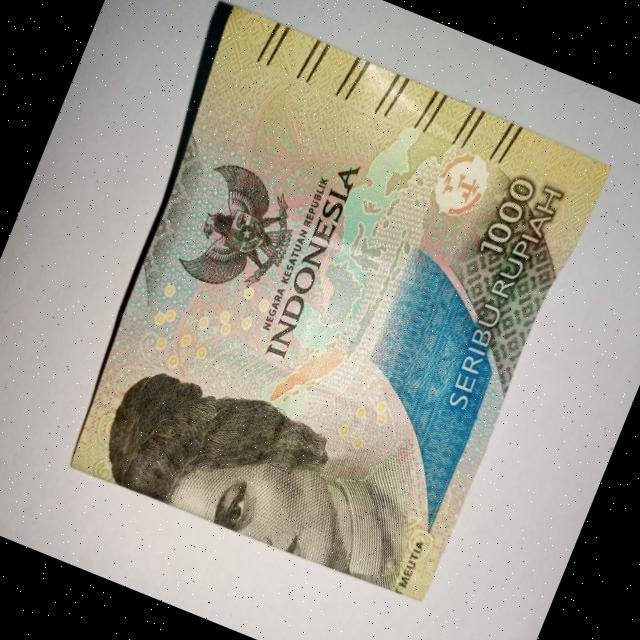1K: (37, 0, 614, 615)
